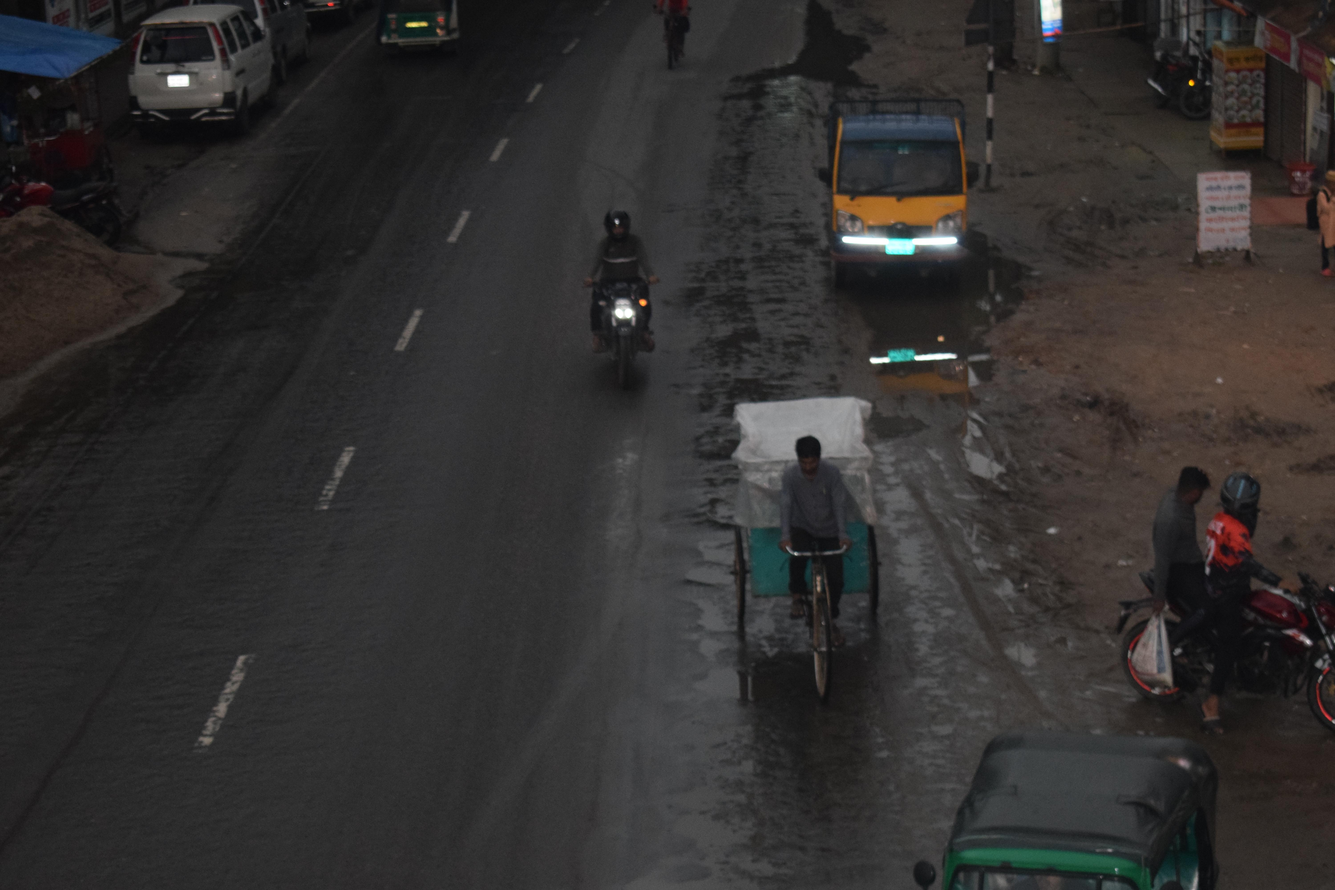Bike: (1082, 421, 1335, 741), (545, 181, 693, 405)
Car: (673, 356, 940, 708), (129, 0, 291, 152)
Truck: (776, 71, 1011, 318)
